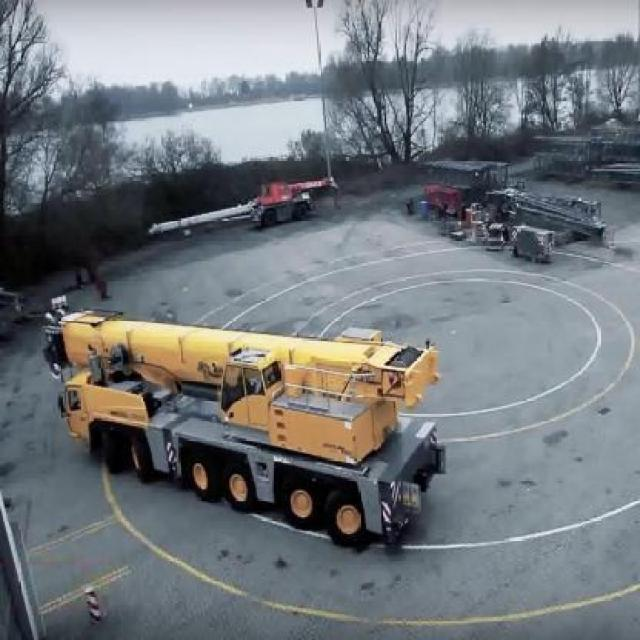Mobile Crane: (43, 307, 445, 544)
